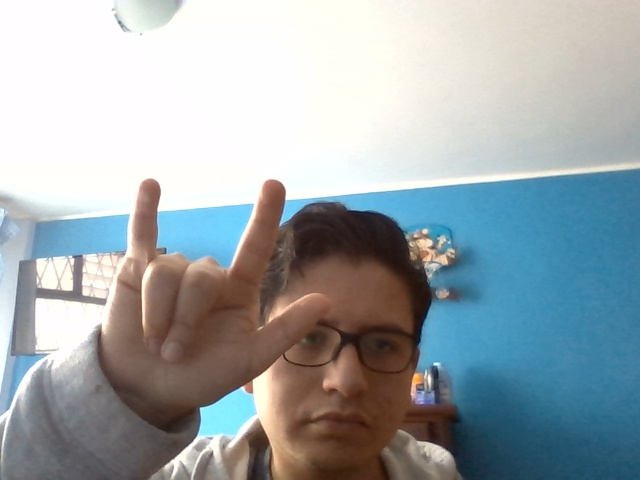amor: (103, 168, 332, 415)
